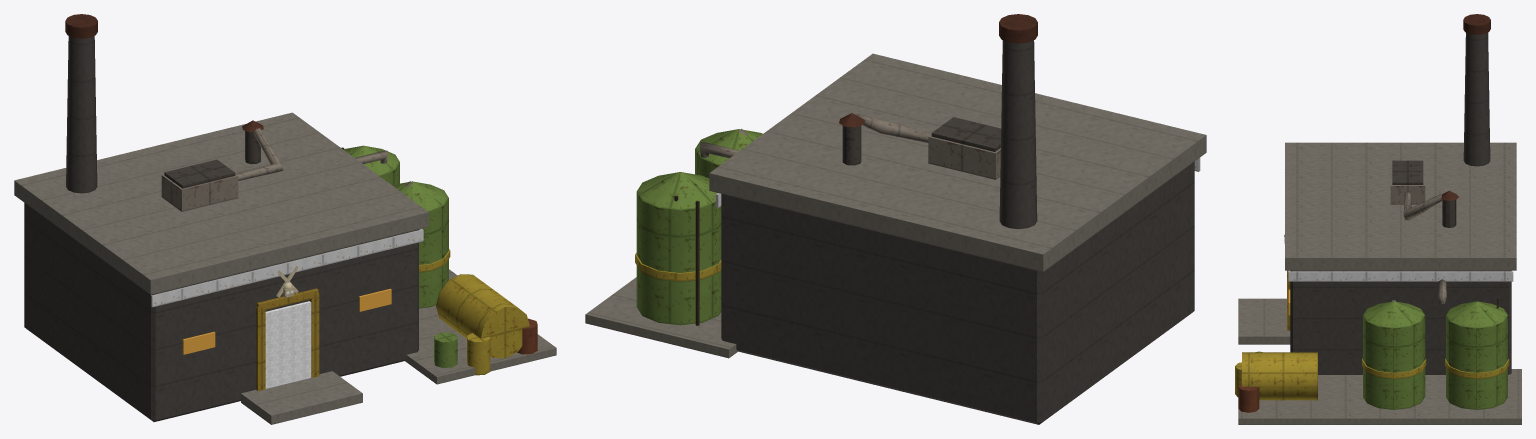
3 views of the same model, side by side, from view 1: azimuth 30°, elevation 25°; view 2: azimuth 150°, elevation 25°; view 3: azimuth 270°, elevation 25° (orthographic). The views are drawn at different scales.
Parts seen in each view (by area): view 1: raider_building_chemlab; view 2: raider_building_chemlab; view 3: raider_building_chemlab.
Part boxes in pixels (<box>): raider_building_chemlab: <box>14,14,556,424</box>; raider_building_chemlab: <box>585,14,1206,424</box>; raider_building_chemlab: <box>1235,14,1521,424</box>.
Size of the model in its own units: 10.75 by 8.5 by 8.3.
14 materials, 14 textured.
